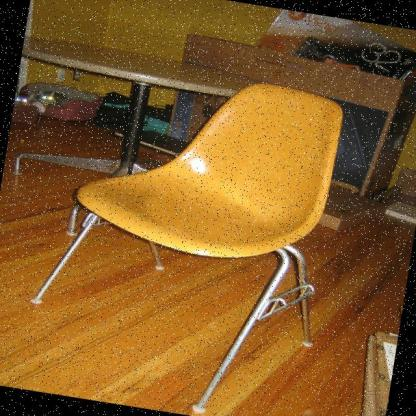Chair: (0, 40, 388, 416)
